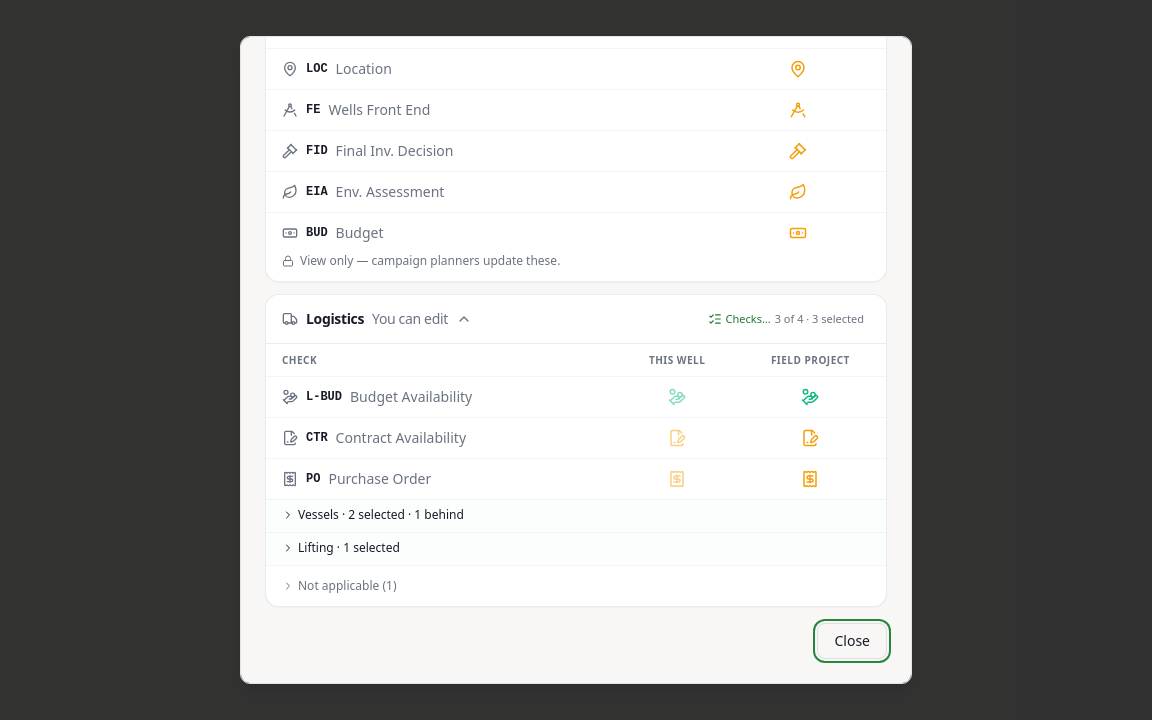
Test: Readiness panel — category sub-sections (spec §8.8) › 'Not applicable (N)' lists only checks a row unticked — never one that is not selected
The width and height of the screenshot is (1152, 720).
(page scrolled)
Expected: the text "Budget Availability" is shown, x1=350 y1=387 x2=472 y2=407
Step 1. Click the button "Not applicable (1)" → [339, 586], box x1=278 y1=578 x2=400 y2=594
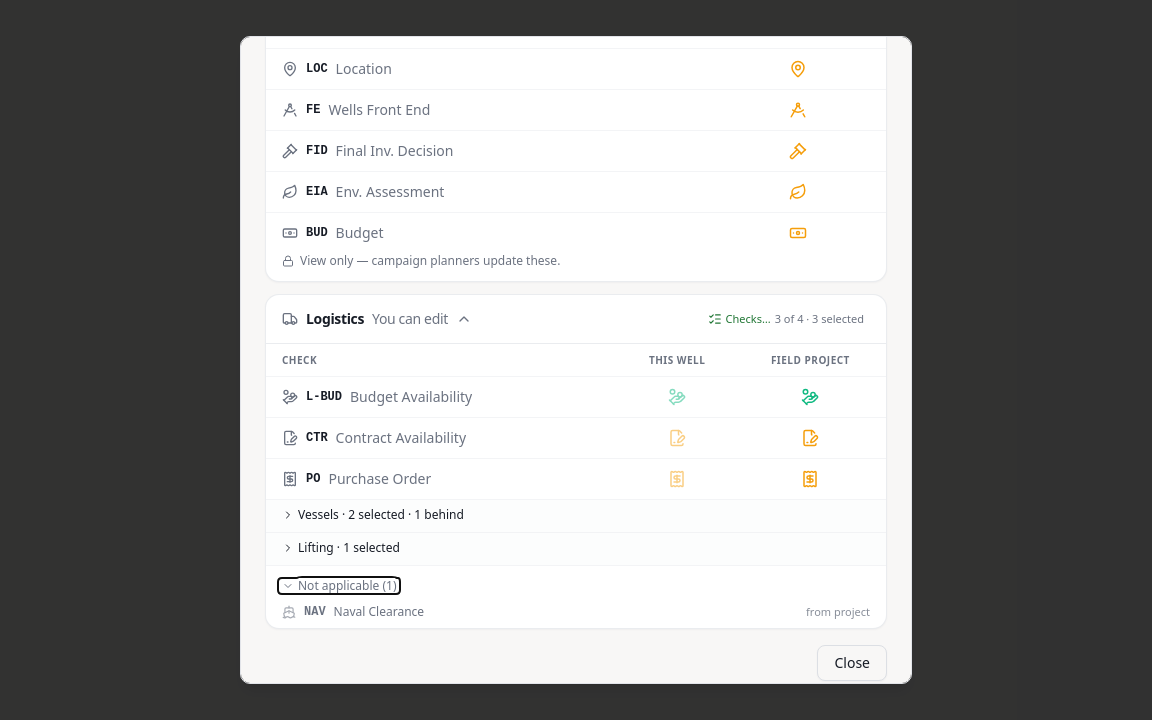
Expected: the text "Naval Clearance" is shown, x1=334 y1=604 x2=424 y2=620
